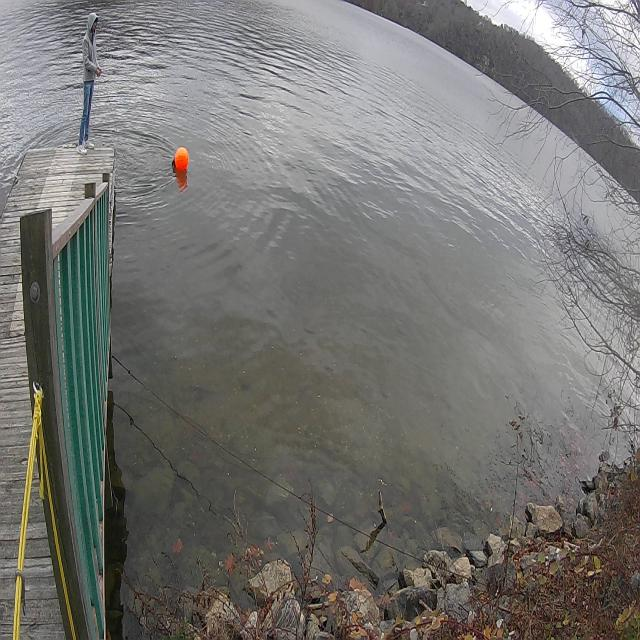Buoy: (170, 138, 193, 180)
